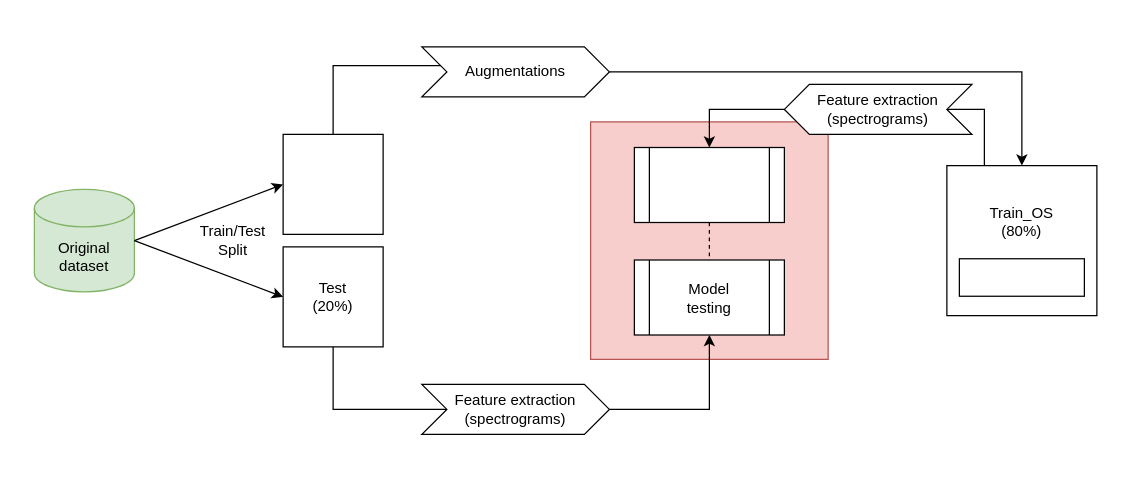
Image size: 1130x480. Some labels were removed from this diagram. Here are the shapes that lost their labels. From the top down, the centre of each, then its label:
the point at 332,183: Train (80%)
the point at 708,184: Model training
the point at 1021,277: Validation (20%)
